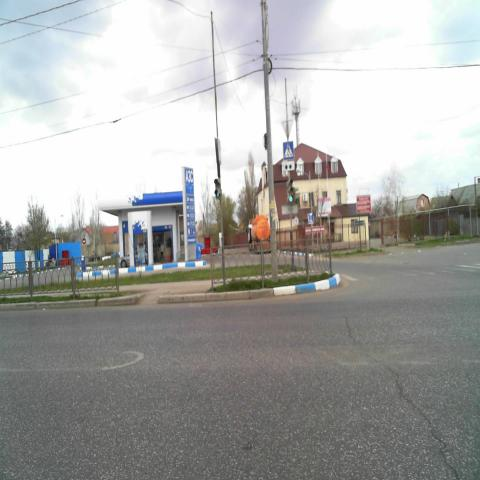8_15: (284, 161, 294, 171)
